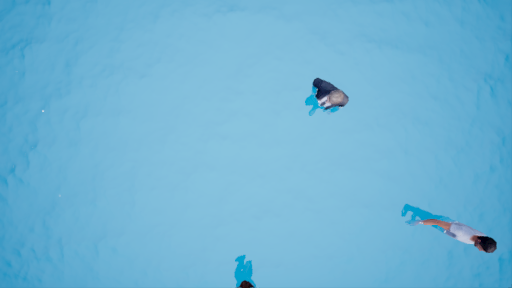person: (395, 198, 503, 255), (296, 70, 358, 119), (232, 251, 275, 288)
